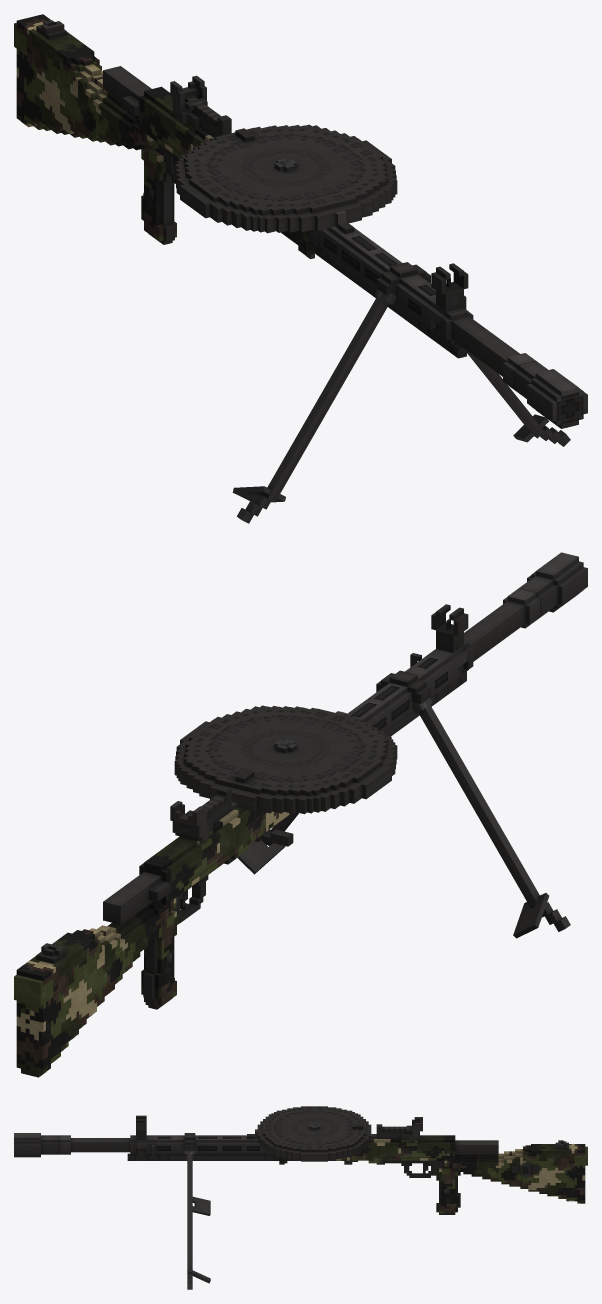
File: RD_DPM_MILITARY1945.glb
3 views of the same model, one above another, from view 1: azimuth 30°, elevation 25°; view 2: azimuth 150°, elevation 25°; view 3: azimuth 270°, elevation 25° (orthographic). The views are drawn at different scales.
Visible parts, largest first — view 1: DPM, DPM_CLIP_COVER, DPM_CLIP, DPM_DIPOD_LEG1, DPM_DIPOD_LEG2; view 2: DPM, DPM_CLIP_COVER, DPM_CLIP, DPM_DIPOD_LEG1, DPM_DIPOD_LEG2; view 3: DPM, DPM_CLIP_COVER, DPM_CLIP, DPM_DIPOD_LEG2, DPM_DIPOD_LEG1.
Boxes of the visible parts, x1,y1,x2,y2 form: DPM: (14,14,587,428); DPM_CLIP_COVER: (183,124,388,215); DPM_CLIP: (174,125,397,233); DPM_DIPOD_LEG1: (232,289,395,523); DPM_DIPOD_LEG2: (467,351,570,446); DPM: (14,552,587,1077); DPM_CLIP_COVER: (183,705,388,796); DPM_CLIP: (174,706,397,814); DPM_DIPOD_LEG1: (412,697,570,938); DPM_DIPOD_LEG2: (237,812,298,874); DPM: (14,1115,587,1214); DPM_CLIP_COVER: (263,1106,365,1151); DPM_CLIP: (255,1113,371,1161); DPM_DIPOD_LEG2: (184,1150,210,1289); DPM_DIPOD_LEG1: (192,1196,210,1215).
Size of the model in its own units: 0.7304 by 0.5285 by 2.09.
1 material, 1 textured.
